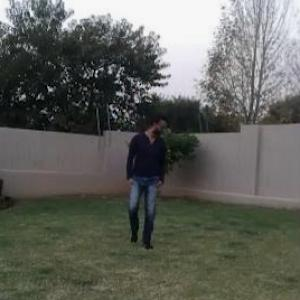follow: (124, 105, 166, 245)
